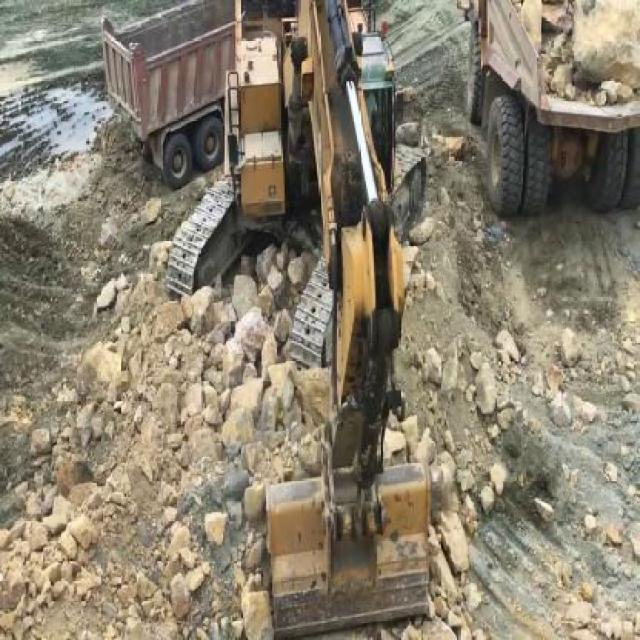dump_truck: (455, 0, 640, 226), (100, 0, 237, 189)
excavator: (161, 0, 438, 638)
